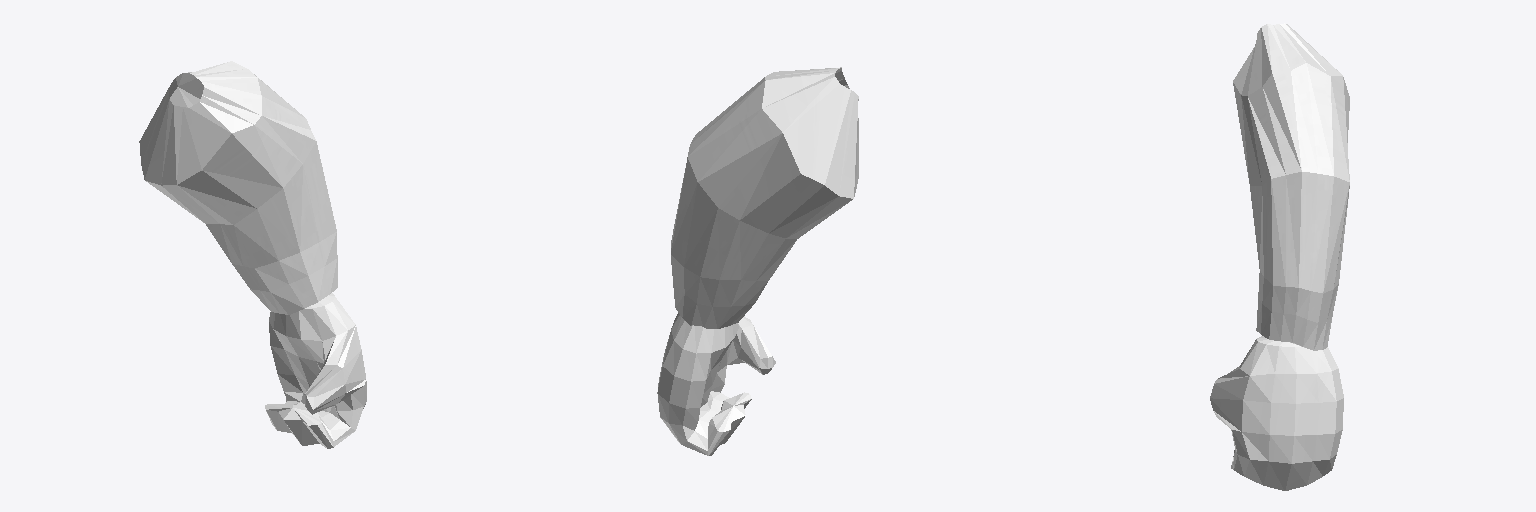
3 renders of one model, left to right at view 1: azimuth 30°, elevation 25°; view 2: azimuth 150°, elevation 25°; view 3: azimuth 270°, elevation 25°, orthographic.
Bounding box in the file's own units: 1.33 × 2.56 × 0.8161.
1 materials, 1 textured.